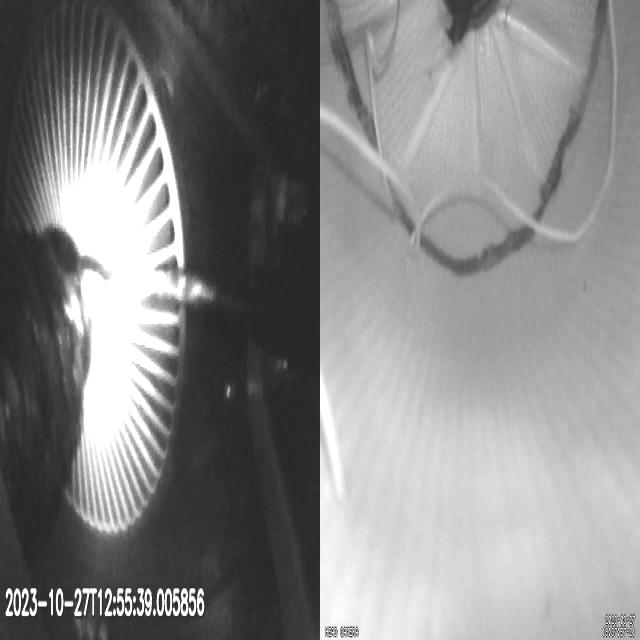red-circle: (325, 0, 610, 280)
